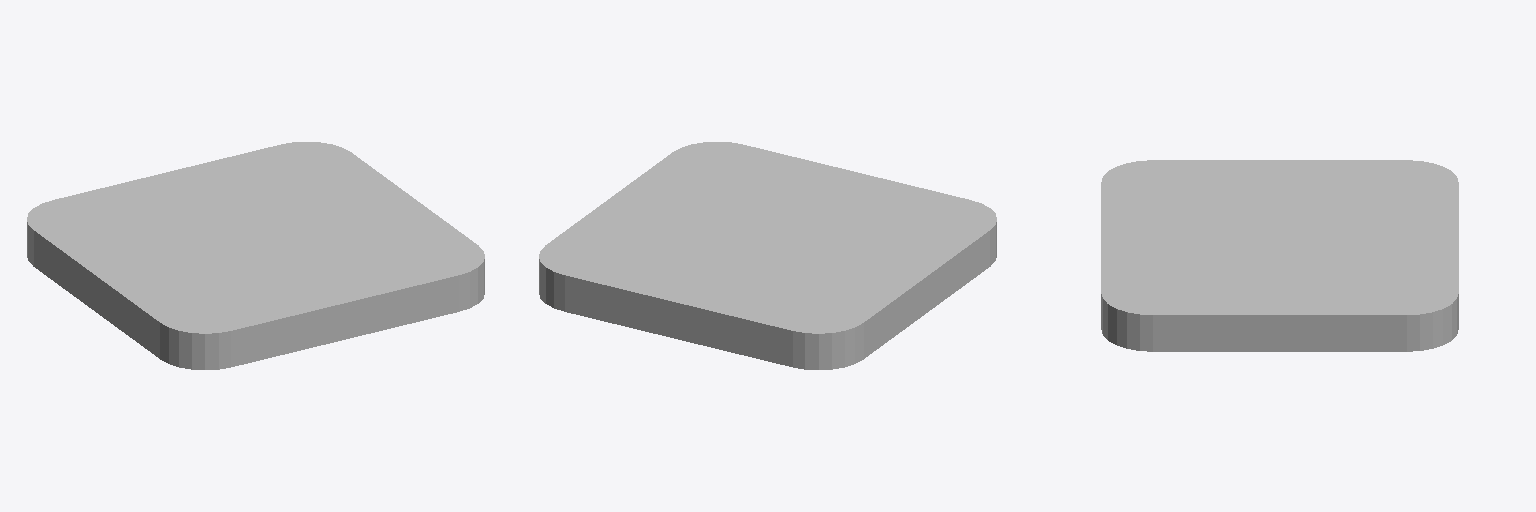
Rendered from original-77.obj.
3 views of the same model, side by side, from view 1: azimuth 30°, elevation 25°; view 2: azimuth 150°, elevation 25°; view 3: azimuth 270°, elevation 25° (orthographic).
Visible parts, largest first — view 1: mesh76/mesh76-geometry#mesh76-geometry; view 2: mesh76/mesh76-geometry#mesh76-geometry; view 3: mesh76/mesh76-geometry#mesh76-geometry.
Boxes of the visible parts, box(x1,y1,x2,y2) form: mesh76/mesh76-geometry#mesh76-geometry: box(27, 142, 484, 369); mesh76/mesh76-geometry#mesh76-geometry: box(539, 142, 996, 369); mesh76/mesh76-geometry#mesh76-geometry: box(1101, 160, 1458, 351).
Bounding box in the file's own units: 0.0583 × 0.0064 × 0.0568.